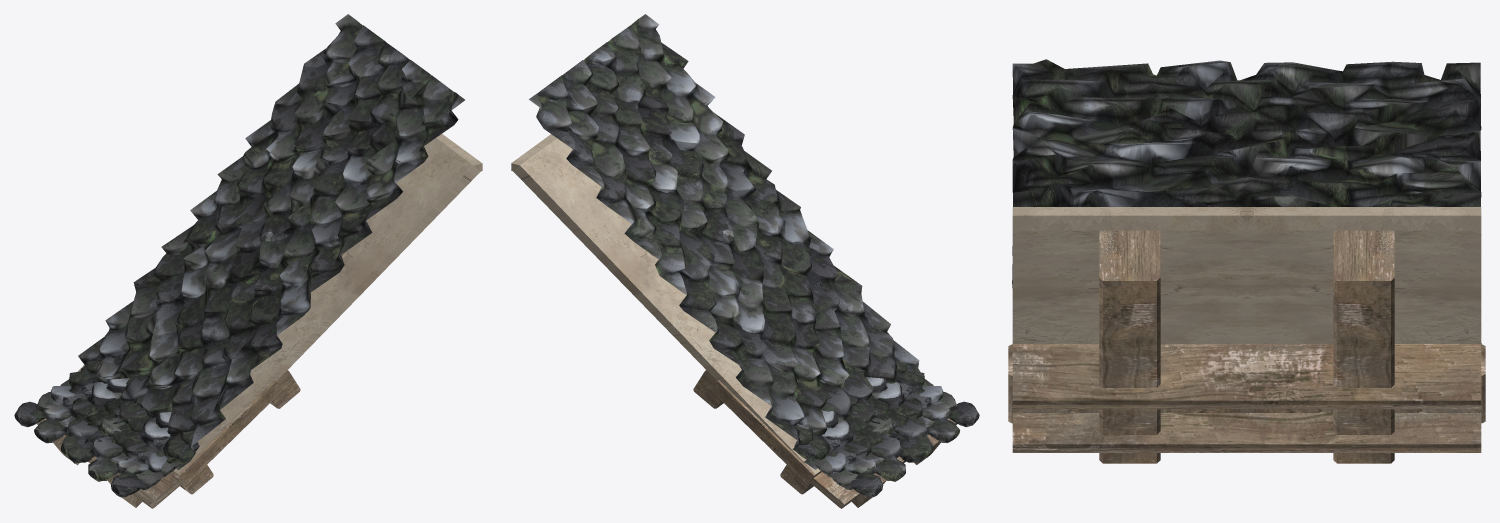
File: SM_Roof_A_02.fbx
3 views of the same model, side by side, from view 1: azimuth 30°, elevation 25°; view 2: azimuth 150°, elevation 25°; view 3: azimuth 270°, elevation 25° (orthographic). The views are drawn at different scales.
Parts seen in each view (by area): view 1: SM_Roof_A_02_LOD0; view 2: SM_Roof_A_02_LOD0; view 3: SM_Roof_A_02_LOD0.
Boxes of the visible parts, left/top/right/bottom form: SM_Roof_A_02_LOD0: left=14, top=14, right=482, bottom=508; SM_Roof_A_02_LOD0: left=511, top=14, right=979, bottom=508; SM_Roof_A_02_LOD0: left=1008, top=59, right=1485, bottom=463.
Bounding box in the file's own units: 367 × 204 × 331.
